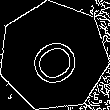O_NE: (21, 25, 86, 88)
